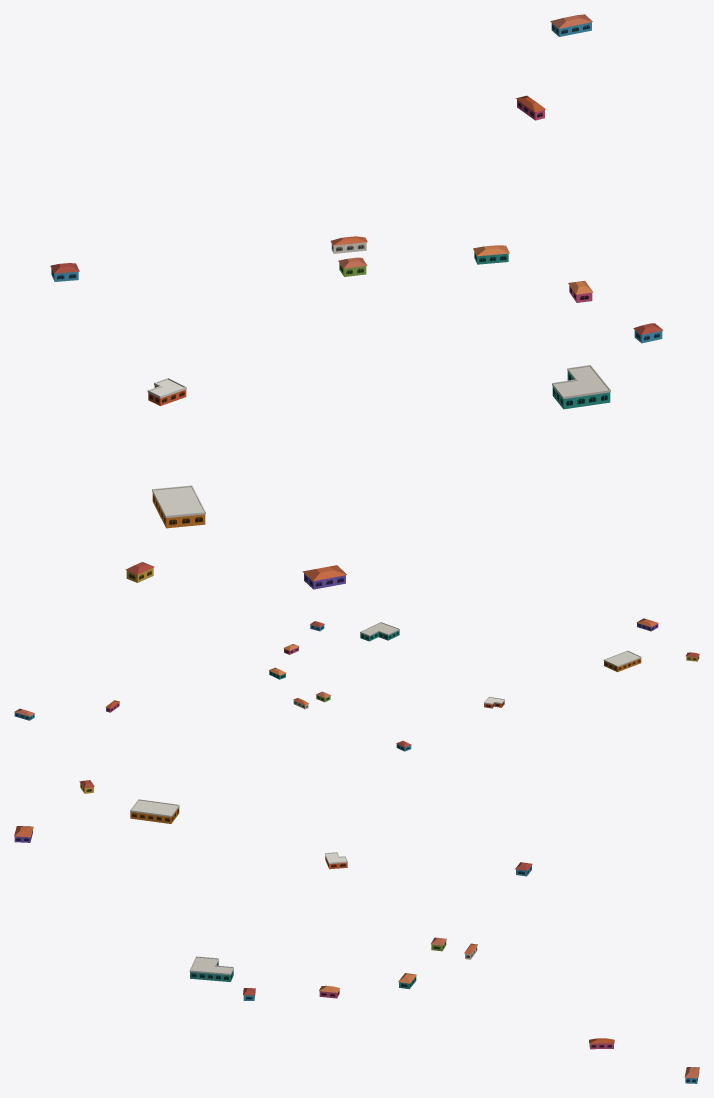
File: msb_oranjestad_m17_m2.glb
3 views of the same model, one above another, from view 1: azimuth 30°, elevation 25°; view 2: azimuth 150°, elevation 25°; view 3: azimuth 270°, elevation 25° (orthographic). The views are drawn at different scales.
Parts seen in each view (by area): view 1: msb_oranjestad_m17_m2_lod0; view 2: msb_oranjestad_m17_m2_lod0; view 3: msb_oranjestad_m17_m2_lod0.
Boxes of the visible parts, bbox=[...] form: msb_oranjestad_m17_m2_lod0: bbox=[50, 14, 663, 589]; msb_oranjestad_m17_m2_lod0: bbox=[14, 618, 699, 751]; msb_oranjestad_m17_m2_lod0: bbox=[14, 780, 699, 1083].
Size of what is drawn, in the model's own units: 377 by 12.87 by 366.
3 materials, 1 textured.
